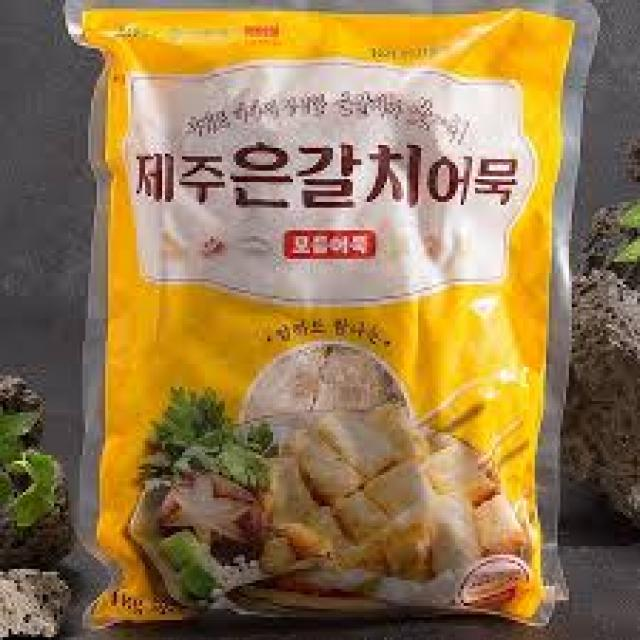fish_cake: (68, 0, 560, 626)
